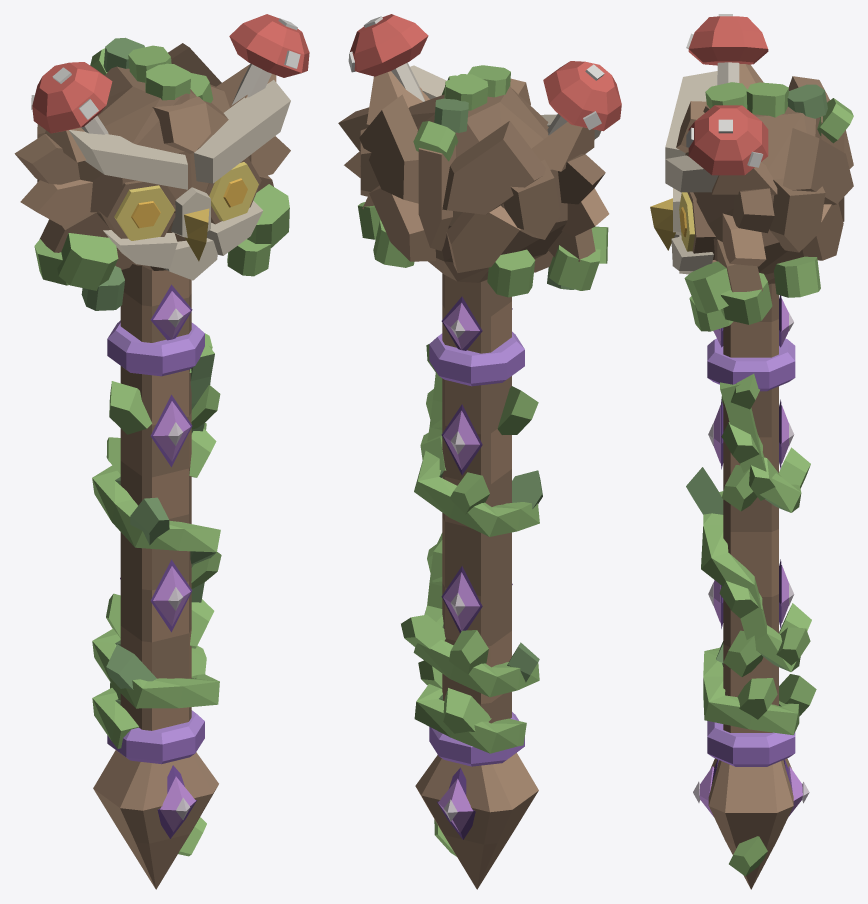
Rendered from hootmoss_staff_roblox.glb.
3 views of the same model, side by side, from view 1: azimuth 30°, elevation 25°; view 2: azimuth 150°, elevation 25°; view 3: azimuth 270°, elevation 25° (orthographic). The views are drawn at different scales.
Parts seen in each view (by area): view 1: Staff, Leaves, Gems; view 2: Staff, Leaves, Gems; view 3: Staff, Leaves, Gems.
Boxes of the visible parts, x1=… form: Staff: x1=14, y1=14, x2=309, y2=889; Leaves: x1=34, y1=37, x2=289, y2=856; Gems: x1=98, y1=157, x2=261, y2=838; Staff: x1=338, y1=14, x2=621, y2=889; Leaves: x1=358, y1=65, x2=608, y2=856; Gems: x1=437, y1=296, x2=512, y2=839; Staff: x1=650, y1=14, x2=853, y2=889; Leaves: x1=684, y1=82, x2=853, y2=876; Gems: x1=679, y1=192, x2=809, y2=816.
Size of the model in its own units: 0.4525 by 1.4 by 0.3124.
